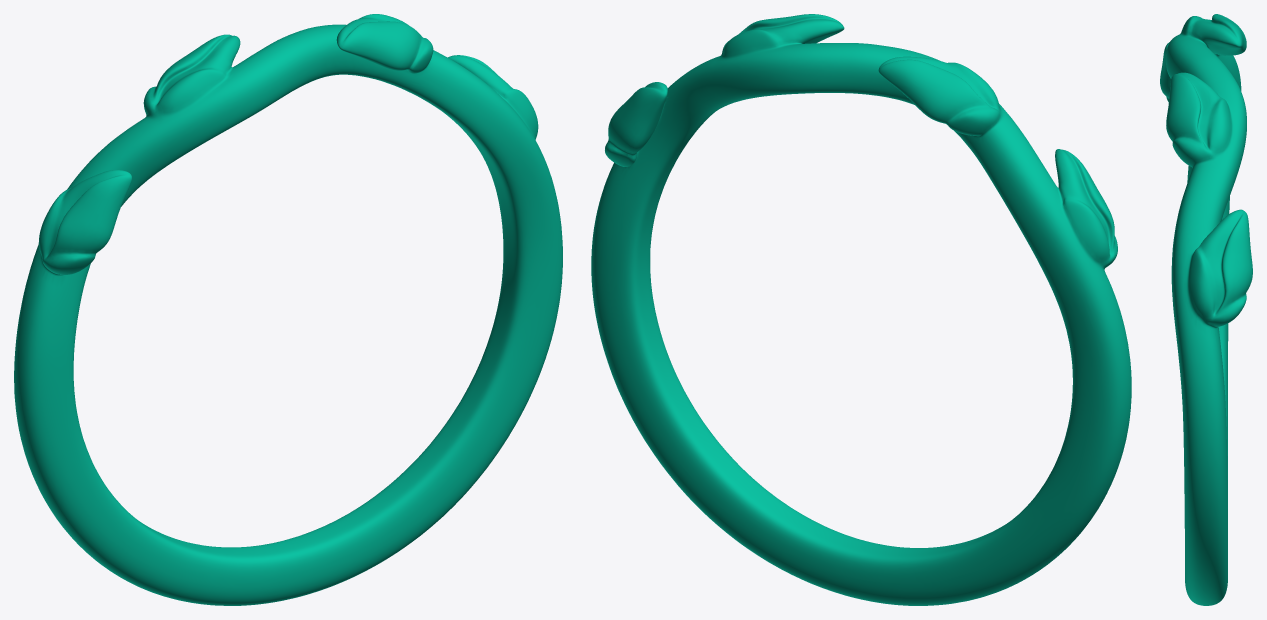
The model's file is BE2133_RENDER.glb.
3 views of the same model, side by side, from view 1: azimuth 30°, elevation 25°; view 2: azimuth 150°, elevation 25°; view 3: azimuth 270°, elevation 25° (orthographic). The views are drawn at different scales.
Parts seen in each view (by area): view 1: Metal03; view 2: Metal03; view 3: Metal03.
Boxes of the visible parts, <box> form: Metal03: <box>14,14,562,605</box>; Metal03: <box>591,14,1131,605</box>; Metal03: <box>1160,14,1252,605</box>.
Size of the model in its own units: 20.21 by 20.18 by 3.22.
